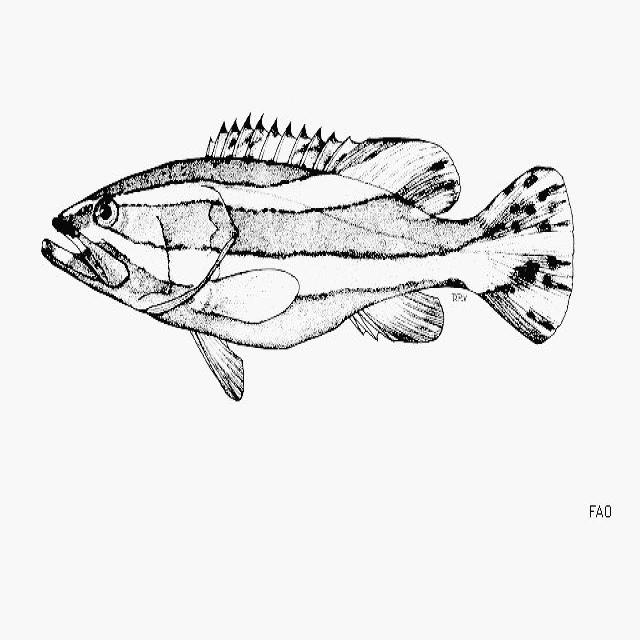ikan: (40, 111, 575, 401)
